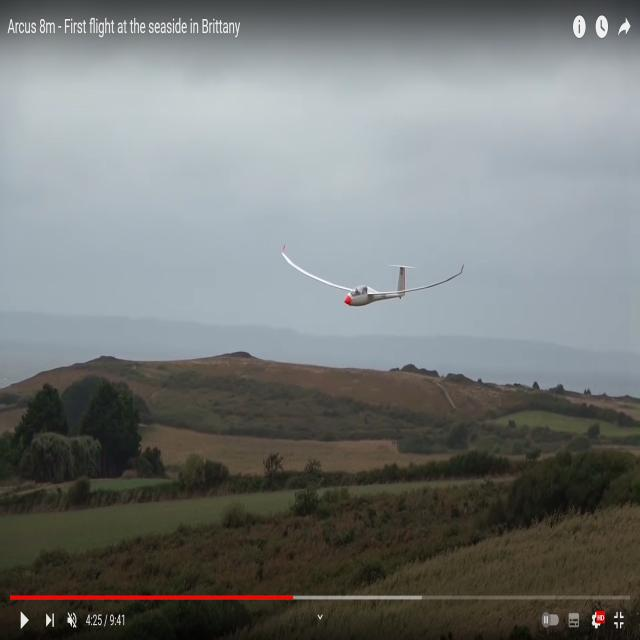iha: (281, 250, 469, 308)
